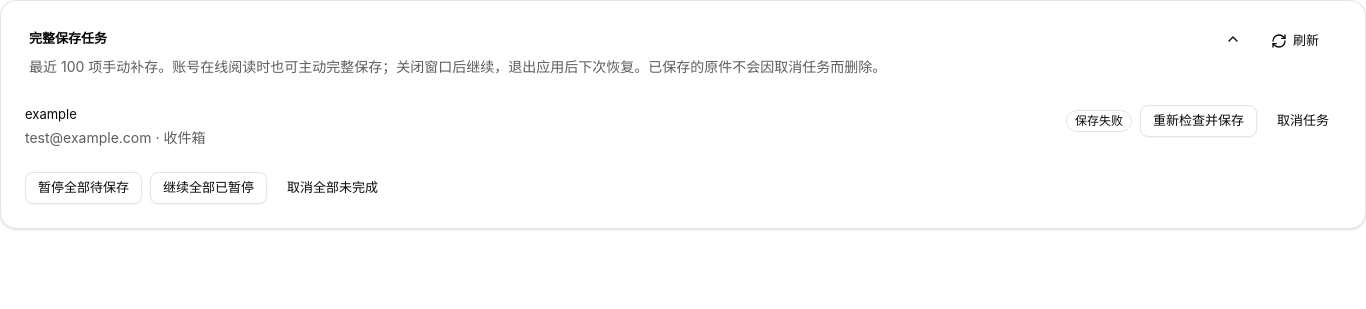
shows load and action failures without pretending a save completed
What coordinates should you click on to do the following:
click the button "重新检查并保存"
I would click on:
 (1198, 120)
Its box is [1140,104,1257,136].
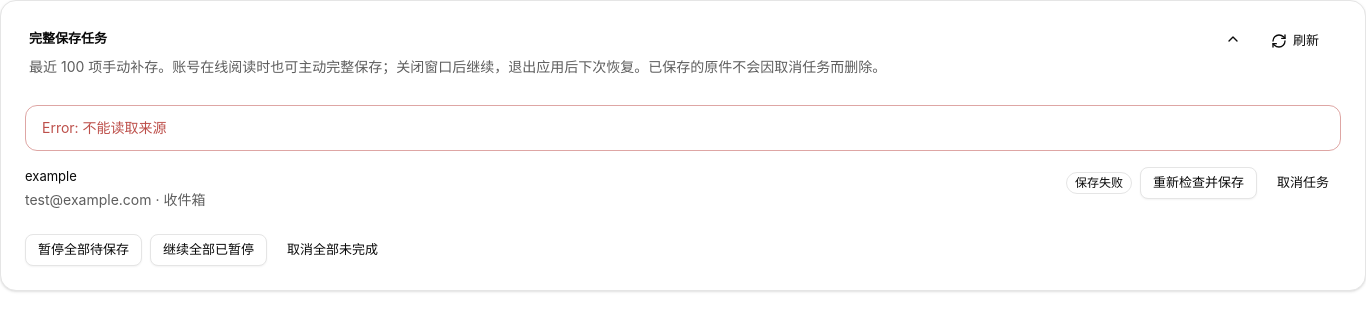
Now the text "不能读取来源" is shown, box [42,118,167,136]
